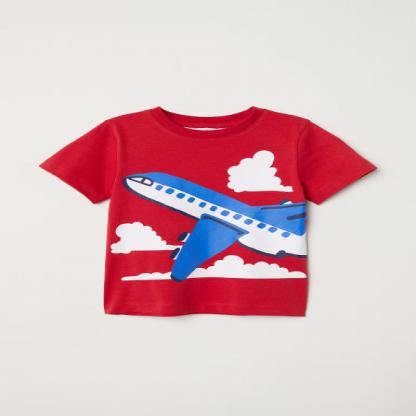CIV_Plane: (118, 169, 304, 285)
